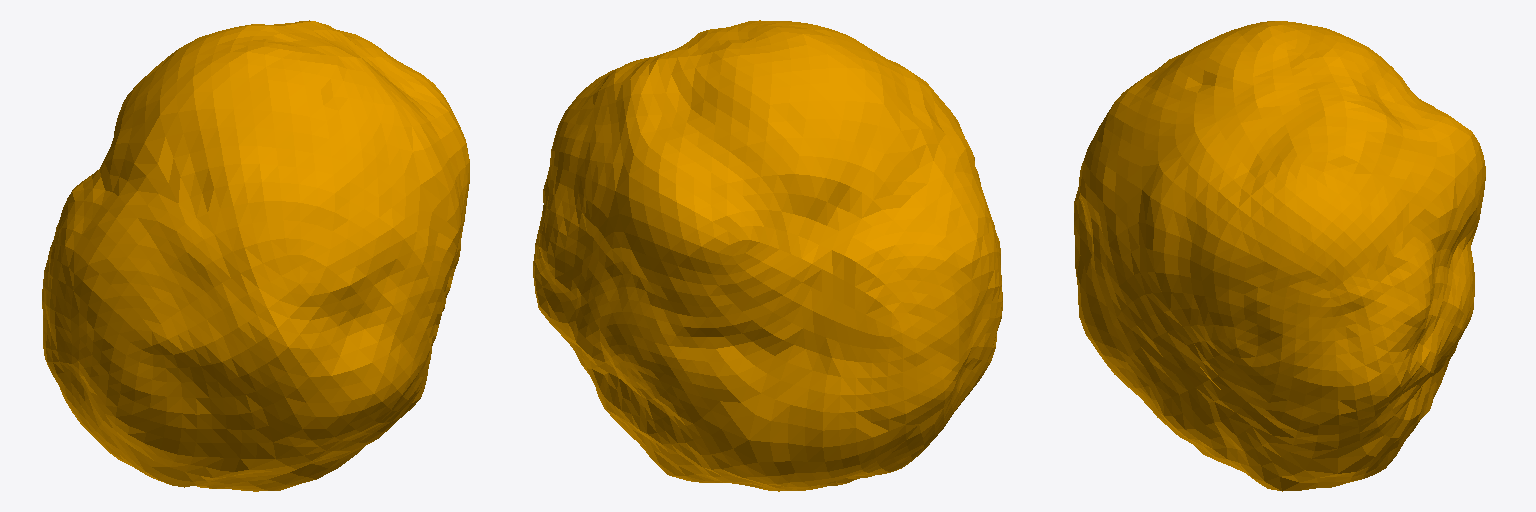
URDF robot description (rock):
<?xml version="1.0" ?>
<robot name="rock">
  <link name="rock">
    <inertial>
      <mass value="0.25"/>
      <origin rpy="0 0 0" xyz="0 0 0"/>
      <inertia ixx="0.00025" ixy="0" ixz="0" iyy="0.00025" iyz="0" izz="0.00025"/>
    </inertial>
    <collision name="rock_collision">
      <origin rpy="0 0 0" xyz="0 0 0"/>
      <geometry>
        <mesh filename="package://rocks/collision/8.stl" scale="1 1 1"/>
      </geometry>
    </collision>
    <visual name="rock_visual">
      <origin rpy="0 0 0" xyz="0 0 0"/>
      <geometry>
        <mesh filename="package://rocks/visual/8.dae" scale="1 1 1"/>
      </geometry>
    </visual>
  </link>
</robot>

--- Facts derived from the render (not from the file) ---
Views: 3 orthographic renders of the robot side by side, from view 1: azimuth 30°, elevation 25°; view 2: azimuth 150°, elevation 25°; view 3: azimuth 270°, elevation 25°.
Robot: rock — 1 links, 0 joints (none); root link rock; default pose: all joints at 0.
Links seen in each view (by area): view 1: rock; view 2: rock; view 3: rock.
Boxes of the visible links, <box> form: rock: <box>42,20,469,491</box>; rock: <box>533,20,1002,491</box>; rock: <box>1074,21,1485,491</box>.
Bounding box of the posed robot: 0.0971 × 0.0899 × 0.103 m (x, y, z).
1 mesh visuals loaded from 1 distinct referenced files (1 Collada DAE).